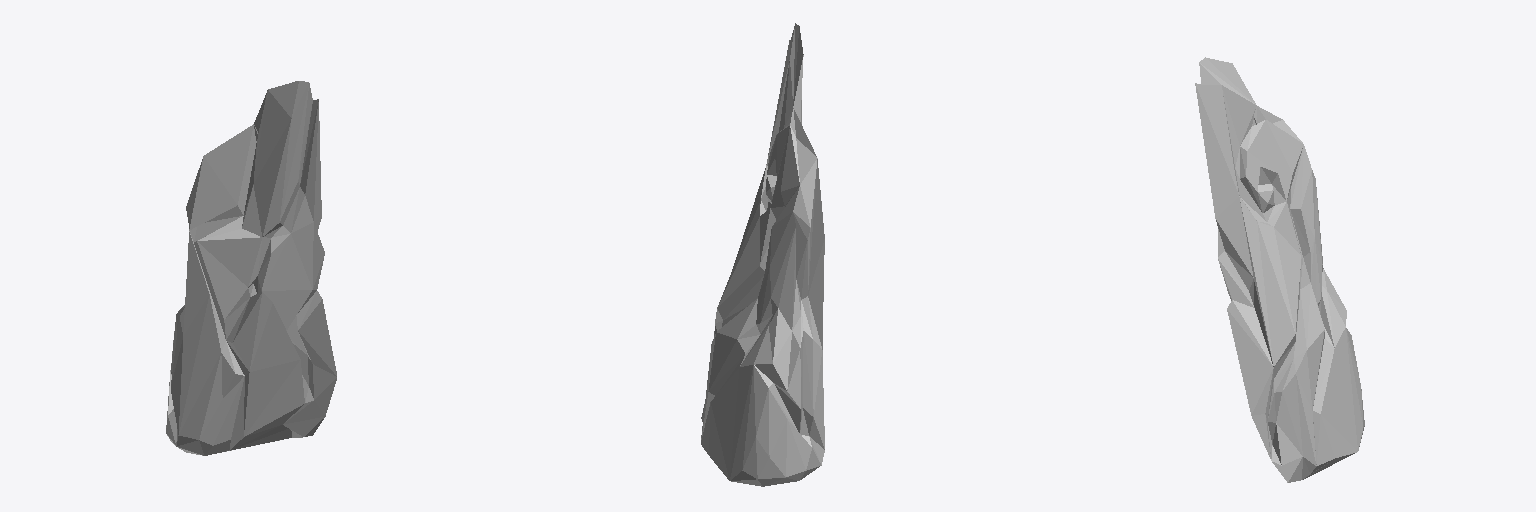
Rendered from Monolith2.obj.
3 renders of one model, left to right at view 1: azimuth 30°, elevation 25°; view 2: azimuth 150°, elevation 25°; view 3: azimuth 270°, elevation 25°, orthographic.
Parts seen in each view (by area): view 1: Monolith1:Group20849; view 2: Monolith1:Group20849; view 3: Monolith1:Group20849.
Part boxes in pixels (x1,y1,x2,y2): Monolith1:Group20849: (166, 81, 336, 455); Monolith1:Group20849: (701, 23, 824, 486); Monolith1:Group20849: (1195, 57, 1364, 482).
Size of the model in its own units: 1.65 by 4.72 by 1.8.